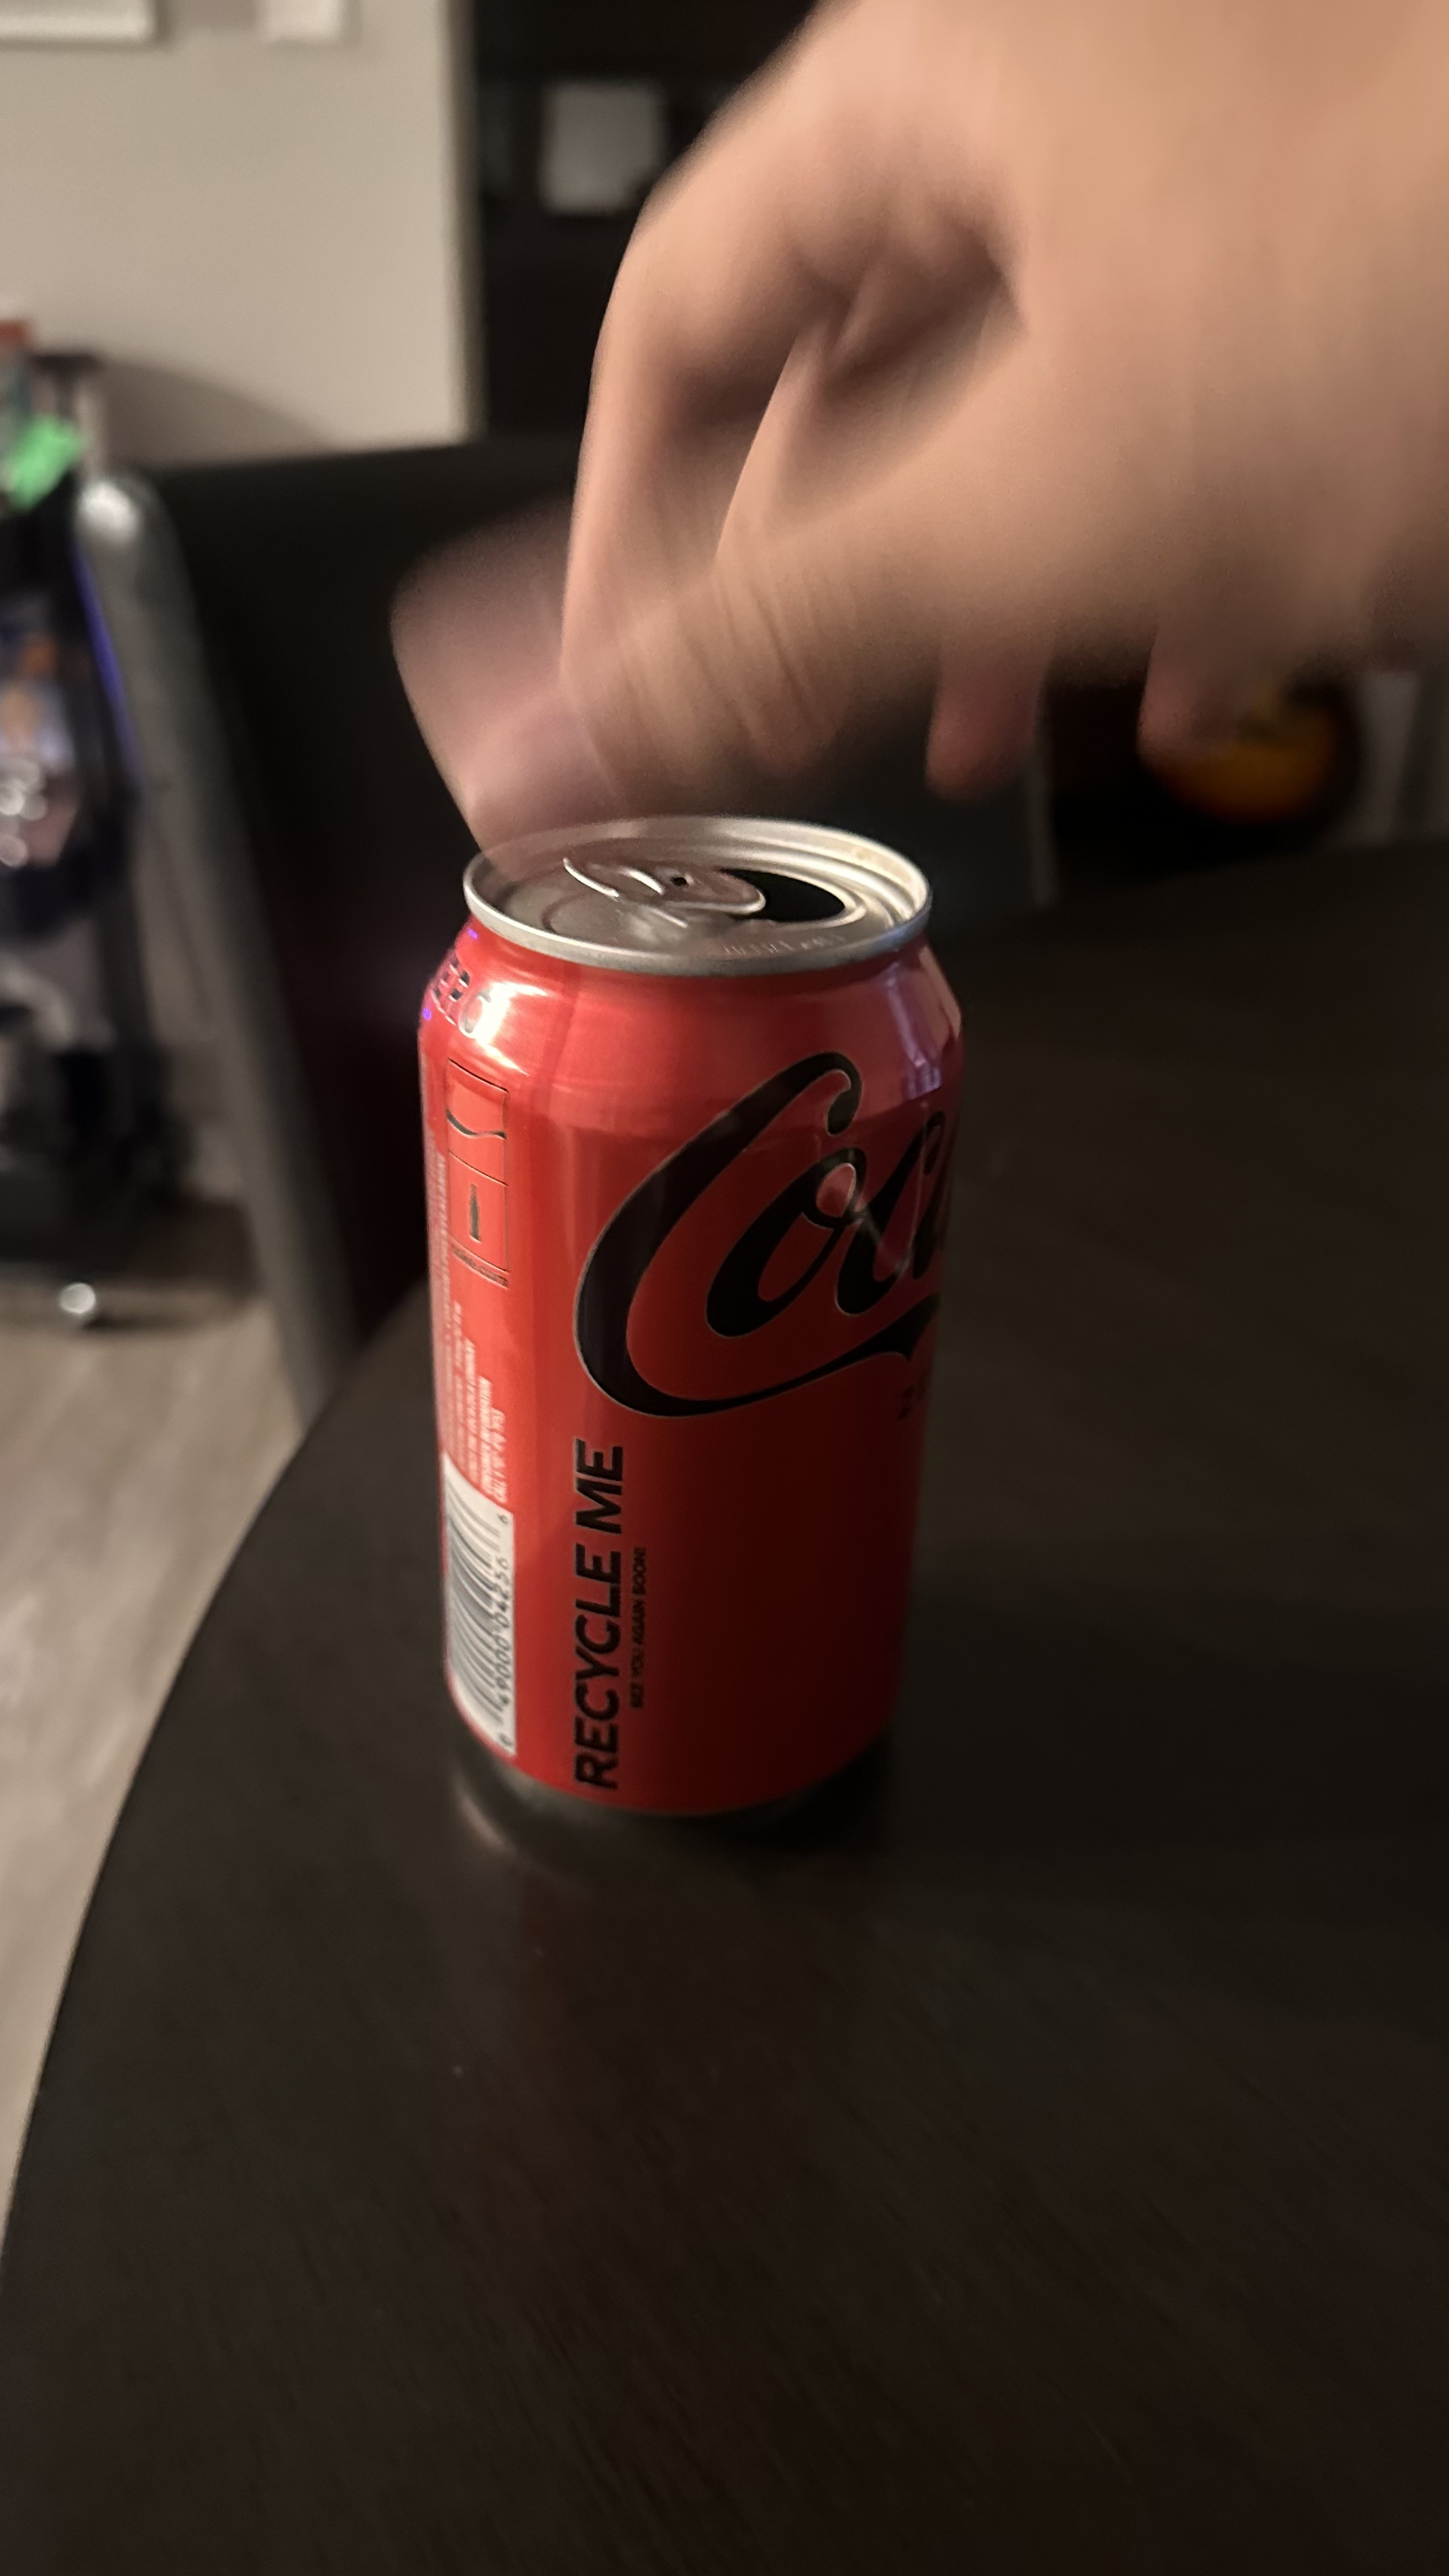Coke Zero: (384, 809, 980, 1881)
